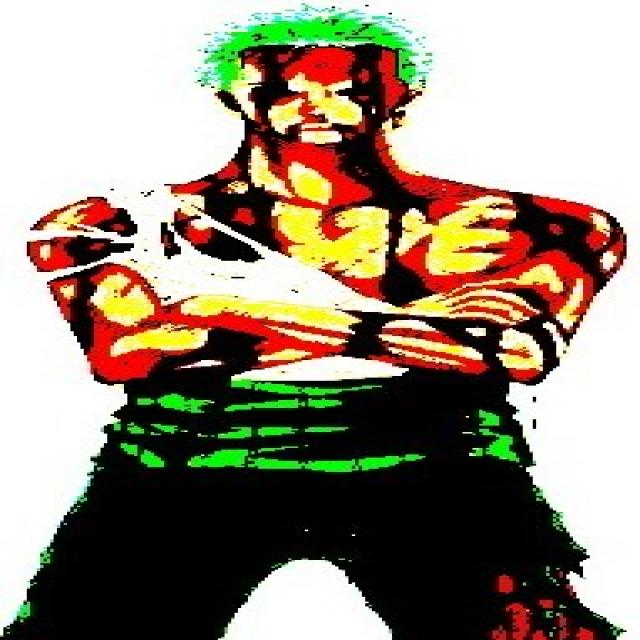Zoro: (0, 11, 630, 640)
